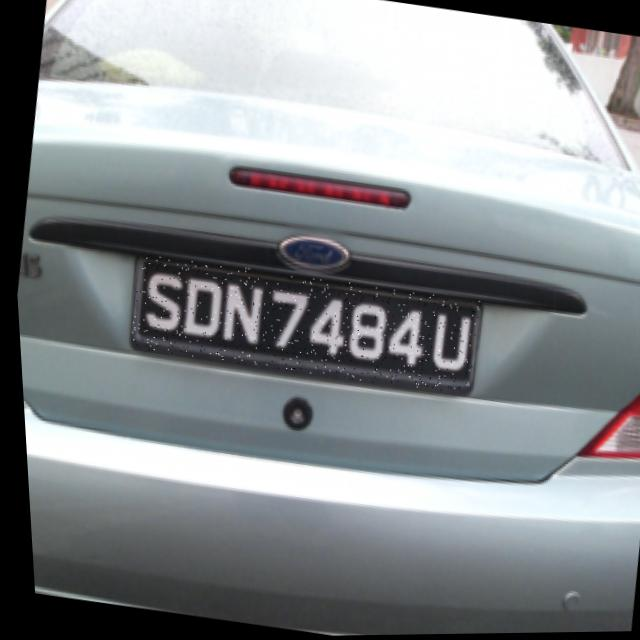license_plate: (121, 249, 480, 401)
